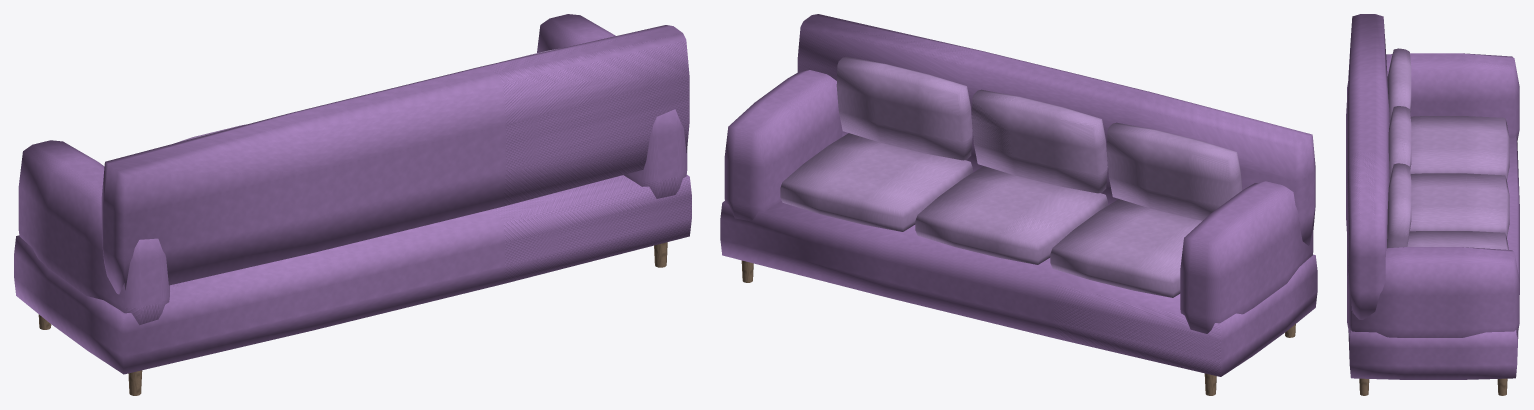
The model's file is sofa_purple.glb.
3 views of the same model, side by side, from view 1: azimuth 30°, elevation 25°; view 2: azimuth 150°, elevation 25°; view 3: azimuth 270°, elevation 25° (orthographic). The views are drawn at different scales.
Parts seen in each view (by area): view 1: sofa_purple_body; view 2: sofa_purple_body; view 3: sofa_purple_body.
Boxes of the visible parts, left/top/right/bottom form: sofa_purple_body: left=14, top=14, right=691, bottom=395; sofa_purple_body: left=720, top=14, right=1317, bottom=395; sofa_purple_body: left=1346, top=14, right=1519, bottom=395.
Size of the model in its own units: 2.8 by 1.09 by 0.955.
Materials: 3 (3 with a texture image).
